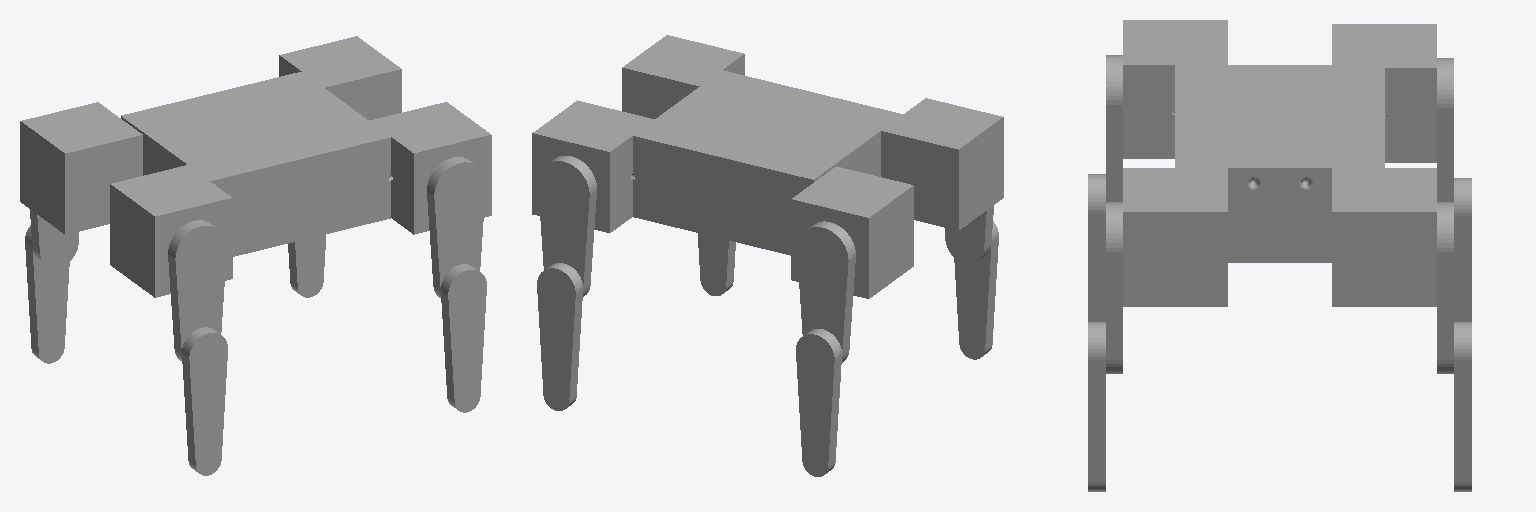
robot.urdf — q_dot_02:
<?xml version="1.0" encoding="utf-8"?>
<!-- =================================================================================== -->
<!-- |    This document was autogenerated by xacro from q_dot_02.xacro                 | -->
<!-- |    EDITING THIS FILE BY HAND IS NOT RECOMMENDED                                 | -->
<!-- =================================================================================== -->
<robot name="q_dot_02">
  <material name="silver">
    <color rgba="0.700 0.700 0.700 1.000"/>
  </material>
  <transmission name="rf_hip_joint_tran">
    <type>transmission_interface/SimpleTransmission</type>
    <joint name="rf_hip_joint">
      <hardwareInterface>hardware_interface/EffortJointInterface</hardwareInterface>
    </joint>
    <actuator name="rf_hip_joint_actr">
      <hardwareInterface>hardware_interface/EffortJointInterface</hardwareInterface>
      <mechanicalReduction>1</mechanicalReduction>
    </actuator>
  </transmission>
  <transmission name="lf_hip_joint_tran">
    <type>transmission_interface/SimpleTransmission</type>
    <joint name="lf_hip_joint">
      <hardwareInterface>hardware_interface/EffortJointInterface</hardwareInterface>
    </joint>
    <actuator name="lf_hip_joint_actr">
      <hardwareInterface>hardware_interface/EffortJointInterface</hardwareInterface>
      <mechanicalReduction>1</mechanicalReduction>
    </actuator>
  </transmission>
  <transmission name="lh_hip_joint_tran">
    <type>transmission_interface/SimpleTransmission</type>
    <joint name="lh_hip_joint">
      <hardwareInterface>hardware_interface/EffortJointInterface</hardwareInterface>
    </joint>
    <actuator name="lh_hip_joint_actr">
      <hardwareInterface>hardware_interface/EffortJointInterface</hardwareInterface>
      <mechanicalReduction>1</mechanicalReduction>
    </actuator>
  </transmission>
  <transmission name="rh_hip_joint_tran">
    <type>transmission_interface/SimpleTransmission</type>
    <joint name="rh_hip_joint">
      <hardwareInterface>hardware_interface/EffortJointInterface</hardwareInterface>
    </joint>
    <actuator name="rh_hip_joint_actr">
      <hardwareInterface>hardware_interface/EffortJointInterface</hardwareInterface>
      <mechanicalReduction>1</mechanicalReduction>
    </actuator>
  </transmission>
  <transmission name="rf_upper_joint_tran">
    <type>transmission_interface/SimpleTransmission</type>
    <joint name="rf_upper_joint">
      <hardwareInterface>hardware_interface/EffortJointInterface</hardwareInterface>
    </joint>
    <actuator name="rf_upper_joint_actr">
      <hardwareInterface>hardware_interface/EffortJointInterface</hardwareInterface>
      <mechanicalReduction>1</mechanicalReduction>
    </actuator>
  </transmission>
  <transmission name="rf_lower_joint_tran">
    <type>transmission_interface/SimpleTransmission</type>
    <joint name="rf_lower_joint">
      <hardwareInterface>hardware_interface/EffortJointInterface</hardwareInterface>
    </joint>
    <actuator name="rf_lower_joint_actr">
      <hardwareInterface>hardware_interface/EffortJointInterface</hardwareInterface>
      <mechanicalReduction>1</mechanicalReduction>
    </actuator>
  </transmission>
  <transmission name="lf_upper_joint_tran">
    <type>transmission_interface/SimpleTransmission</type>
    <joint name="lf_upper_joint">
      <hardwareInterface>hardware_interface/EffortJointInterface</hardwareInterface>
    </joint>
    <actuator name="lf_upper_joint_actr">
      <hardwareInterface>hardware_interface/EffortJointInterface</hardwareInterface>
      <mechanicalReduction>1</mechanicalReduction>
    </actuator>
  </transmission>
  <transmission name="lf_lower_joint_tran">
    <type>transmission_interface/SimpleTransmission</type>
    <joint name="lf_lower_joint">
      <hardwareInterface>hardware_interface/EffortJointInterface</hardwareInterface>
    </joint>
    <actuator name="lf_lower_joint_actr">
      <hardwareInterface>hardware_interface/EffortJointInterface</hardwareInterface>
      <mechanicalReduction>1</mechanicalReduction>
    </actuator>
  </transmission>
  <transmission name="lh_upper_joint_tran">
    <type>transmission_interface/SimpleTransmission</type>
    <joint name="lh_upper_joint">
      <hardwareInterface>hardware_interface/EffortJointInterface</hardwareInterface>
    </joint>
    <actuator name="lh_upper_joint_actr">
      <hardwareInterface>hardware_interface/EffortJointInterface</hardwareInterface>
      <mechanicalReduction>1</mechanicalReduction>
    </actuator>
  </transmission>
  <transmission name="lh_lower_joint_tran">
    <type>transmission_interface/SimpleTransmission</type>
    <joint name="lh_lower_joint">
      <hardwareInterface>hardware_interface/EffortJointInterface</hardwareInterface>
    </joint>
    <actuator name="lh_lower_joint_actr">
      <hardwareInterface>hardware_interface/EffortJointInterface</hardwareInterface>
      <mechanicalReduction>1</mechanicalReduction>
    </actuator>
  </transmission>
  <transmission name="rh_upper_joint_tran">
    <type>transmission_interface/SimpleTransmission</type>
    <joint name="rh_upper_joint">
      <hardwareInterface>hardware_interface/EffortJointInterface</hardwareInterface>
    </joint>
    <actuator name="rh_upper_joint_actr">
      <hardwareInterface>hardware_interface/EffortJointInterface</hardwareInterface>
      <mechanicalReduction>1</mechanicalReduction>
    </actuator>
  </transmission>
  <transmission name="rh_lower_joint_tran">
    <type>transmission_interface/SimpleTransmission</type>
    <joint name="rh_lower_joint">
      <hardwareInterface>hardware_interface/EffortJointInterface</hardwareInterface>
    </joint>
    <actuator name="rh_lower_joint_actr">
      <hardwareInterface>hardware_interface/EffortJointInterface</hardwareInterface>
      <mechanicalReduction>1</mechanicalReduction>
    </actuator>
  </transmission>
  <gazebo>
    <plugin filename="libgazebo_ros_control.so" name="control"/>
  </gazebo>
  <gazebo reference="base_link">
    <material>Gazebo/Silver</material>
    <mu1>0.2</mu1>
    <mu2>0.2</mu2>
    <selfCollide>true</selfCollide>
    <gravity>true</gravity>
  </gazebo>
  <gazebo reference="rf_hip_link_1">
    <material>Gazebo/Silver</material>
    <mu1>0.2</mu1>
    <mu2>0.2</mu2>
    <selfCollide>true</selfCollide>
  </gazebo>
  <gazebo reference="lf_hip_link_1">
    <material>Gazebo/Silver</material>
    <mu1>0.2</mu1>
    <mu2>0.2</mu2>
    <selfCollide>true</selfCollide>
  </gazebo>
  <gazebo reference="lh_hip_link_1">
    <material>Gazebo/Silver</material>
    <mu1>0.2</mu1>
    <mu2>0.2</mu2>
    <selfCollide>true</selfCollide>
  </gazebo>
  <gazebo reference="rh_hip_link_1">
    <material>Gazebo/Silver</material>
    <mu1>0.2</mu1>
    <mu2>0.2</mu2>
    <selfCollide>true</selfCollide>
  </gazebo>
  <gazebo reference="rf_upper_leg_link_1">
    <material>Gazebo/Silver</material>
    <mu1>0.2</mu1>
    <mu2>0.2</mu2>
    <selfCollide>true</selfCollide>
  </gazebo>
  <gazebo reference="rf_lower_leg_link_1">
    <material>Gazebo/Silver</material>
    <mu1>0.2</mu1>
    <mu2>0.2</mu2>
    <selfCollide>true</selfCollide>
  </gazebo>
  <gazebo reference="lf_upper_leg_link_1">
    <material>Gazebo/Silver</material>
    <mu1>0.2</mu1>
    <mu2>0.2</mu2>
    <selfCollide>true</selfCollide>
  </gazebo>
  <gazebo reference="lf_lower_leg_link_1">
    <material>Gazebo/Silver</material>
    <mu1>0.2</mu1>
    <mu2>0.2</mu2>
    <selfCollide>true</selfCollide>
  </gazebo>
  <gazebo reference="lh_upper_leg_link_1">
    <material>Gazebo/Silver</material>
    <mu1>0.2</mu1>
    <mu2>0.2</mu2>
    <selfCollide>true</selfCollide>
  </gazebo>
  <gazebo reference="lh_lower_leg_link_1">
    <material>Gazebo/Silver</material>
    <mu1>0.2</mu1>
    <mu2>0.2</mu2>
    <selfCollide>true</selfCollide>
  </gazebo>
  <gazebo reference="rh_upper_leg_link_1">
    <material>Gazebo/Silver</material>
    <mu1>0.2</mu1>
    <mu2>0.2</mu2>
    <selfCollide>true</selfCollide>
  </gazebo>
  <gazebo reference="rh_lower_leg_link_1">
    <material>Gazebo/Silver</material>
    <mu1>0.2</mu1>
    <mu2>0.2</mu2>
    <selfCollide>true</selfCollide>
  </gazebo>
  <link name="base_link">
    <inertial>
      <origin rpy="0 0 0" xyz="-3.749856284860472e-06 -9.02420120018054e-18 -1.093119461551725e-06"/>
      <mass value="0.9889425737724369"/>
      <inertia ixx="0.000371" ixy="-0.0" ixz="0.0" iyy="0.000478" iyz="-0.0" izz="0.0007"/>
    </inertial>
    <visual>
      <origin rpy="0 0 0" xyz="0 0 0"/>
      <geometry>
        <mesh filename="package://q_dot_02_description/meshes/base_link.stl" scale="0.001 0.001 0.001"/>
      </geometry>
      <material name="silver"/>
    </visual>
    <collision>
      <origin rpy="0 0 0" xyz="0 0 0"/>
      <geometry>
        <mesh filename="package://q_dot_02_description/meshes/base_link.stl" scale="0.001 0.001 0.001"/>
      </geometry>
    </collision>
  </link>
  <link name="rf_hip_link_1">
    <inertial>
      <origin rpy="0 0 0" xyz="0.015001687347942105 1.734723475976807e-17 0.0"/>
      <mass value="0.21192533849766937"/>
      <inertia ixx="3.2e-05" ixy="0.0" ixz="0.0" iyy="3.2e-05" iyz="0.0" izz="3.2e-05"/>
    </inertial>
    <visual>
      <origin rpy="0 0 0" xyz="-0.035 0.03 -0.0"/>
      <geometry>
        <mesh filename="package://q_dot_02_description/meshes/rf_hip_link_1.stl" scale="0.001 0.001 0.001"/>
      </geometry>
      <material name="silver"/>
    </visual>
    <collision>
      <origin rpy="0 0 0" xyz="-0.035 0.03 -0.0"/>
      <geometry>
        <mesh filename="package://q_dot_02_description/meshes/rf_hip_link_1.stl" scale="0.001 0.001 0.001"/>
      </geometry>
    </collision>
  </link>
  <link name="lf_hip_link_1">
    <inertial>
      <origin rpy="0 0 0" xyz="0.015001687347942098 1.734723475976807e-17 -2.6319460028976815e-18"/>
      <mass value="0.2119253384976692"/>
      <inertia ixx="3.2e-05" ixy="0.0" ixz="-0.0" iyy="3.2e-05" iyz="-0.0" izz="3.2e-05"/>
    </inertial>
    <visual>
      <origin rpy="0 0 0" xyz="-0.035 -0.03 -0.0"/>
      <geometry>
        <mesh filename="package://q_dot_02_description/meshes/lf_hip_link_1.stl" scale="0.001 0.001 0.001"/>
      </geometry>
      <material name="silver"/>
    </visual>
    <collision>
      <origin rpy="0 0 0" xyz="-0.035 -0.03 -0.0"/>
      <geometry>
        <mesh filename="package://q_dot_02_description/meshes/lf_hip_link_1.stl" scale="0.001 0.001 0.001"/>
      </geometry>
    </collision>
  </link>
  <link name="lh_hip_link_1">
    <inertial>
      <origin rpy="0 0 0" xyz="-0.015001687347942105 -2.42861286636753e-17 3.469446951953614e-18"/>
      <mass value="0.2119253384976694"/>
      <inertia ixx="3.2e-05" ixy="0.0" ixz="0.0" iyy="3.2e-05" iyz="0.0" izz="3.2e-05"/>
    </inertial>
    <visual>
      <origin rpy="0 0 0" xyz="0.035 -0.03 0.001"/>
      <geometry>
        <mesh filename="package://q_dot_02_description/meshes/lh_hip_link_1.stl" scale="0.001 0.001 0.001"/>
      </geometry>
      <material name="silver"/>
    </visual>
    <collision>
      <origin rpy="0 0 0" xyz="0.035 -0.03 0.001"/>
      <geometry>
        <mesh filename="package://q_dot_02_description/meshes/lh_hip_link_1.stl" scale="0.001 0.001 0.001"/>
      </geometry>
    </collision>
  </link>
  <link name="rh_hip_link_1">
    <inertial>
      <origin rpy="0 0 0" xyz="-0.015001687347942105 -1.734723475976807e-17 0.0"/>
      <mass value="0.21192533849766917"/>
      <inertia ixx="3.2e-05" ixy="0.0" ixz="-0.0" iyy="3.2e-05" iyz="-0.0" izz="3.2e-05"/>
    </inertial>
    <visual>
      <origin rpy="0 0 0" xyz="0.035 0.03 -0.0"/>
      <geometry>
        <mesh filename="package://q_dot_02_description/meshes/rh_hip_link_1.stl" scale="0.001 0.001 0.001"/>
      </geometry>
      <material name="silver"/>
    </visual>
    <collision>
      <origin rpy="0 0 0" xyz="0.035 0.03 -0.0"/>
      <geometry>
        <mesh filename="package://q_dot_02_description/meshes/rh_hip_link_1.stl" scale="0.001 0.001 0.001"/>
      </geometry>
    </collision>
  </link>
  <link name="rf_upper_leg_link_1">
    <inertial>
      <origin rpy="0 0 0" xyz="0.0 -0.0025000000000000022 -0.015060554087736015"/>
      <mass value="0.03370014250693511"/>
      <inertia ixx="7e-06" ixy="-0.0" ixz="-0.0" iyy="8e-06" iyz="-0.0" izz="1e-06"/>
    </inertial>
    <visual>
      <origin rpy="0 0 0" xyz="-0.05 0.045 -0.0"/>
      <geometry>
        <mesh filename="package://q_dot_02_description/meshes/rf_upper_leg_link_1.stl" scale="0.001 0.001 0.001"/>
      </geometry>
      <material name="silver"/>
    </visual>
    <collision>
      <origin rpy="0 0 0" xyz="-0.05 0.045 -0.0"/>
      <geometry>
        <mesh filename="package://q_dot_02_description/meshes/rf_upper_leg_link_1.stl" scale="0.001 0.001 0.001"/>
      </geometry>
    </collision>
  </link>
  <link name="rf_lower_leg_link_1">
    <inertial>
      <origin rpy="0 0 0" xyz="0.0 -0.0024999999999999953 -0.01706099375174222"/>
      <mass value="0.02467231228210367"/>
      <inertia ixx="5e-06" ixy="0.0" ixz="0.0" iyy="5e-06" iyz="0.0" izz="0.0"/>
    </inertial>
    <visual>
      <origin rpy="0 0 0" xyz="-0.05 0.05 0.035"/>
      <geometry>
        <mesh filename="package://q_dot_02_description/meshes/rf_lower_leg_link_1.stl" scale="0.001 0.001 0.001"/>
      </geometry>
      <material name="silver"/>
    </visual>
    <collision>
      <origin rpy="0 0 0" xyz="-0.05 0.05 0.035"/>
      <geometry>
        <mesh filename="package://q_dot_02_description/meshes/rf_lower_leg_link_1.stl" scale="0.001 0.001 0.001"/>
      </geometry>
    </collision>
  </link>
  <!-- RF FOOT -->
  <link name="rf_foot_link"/>
  <!-- RF FOOT -->
  <link name="lf_upper_leg_link_1">
    <inertial>
      <origin rpy="0 0 0" xyz="0.0 0.002500000000000009 -0.015060554087736"/>
      <mass value="0.033700142506935094"/>
      <inertia ixx="7e-06" ixy="0.0" ixz="-0.0" iyy="8e-06" iyz="0.0" izz="1e-06"/>
    </inertial>
    <visual>
      <origin rpy="0 0 0" xyz="-0.05 -0.045 -0.0"/>
      <geometry>
        <mesh filename="package://q_dot_02_description/meshes/lf_upper_leg_link_1.stl" scale="0.001 0.001 0.001"/>
      </geometry>
      <material name="silver"/>
    </visual>
    <collision>
      <origin rpy="0 0 0" xyz="-0.05 -0.045 -0.0"/>
      <geometry>
        <mesh filename="package://q_dot_02_description/meshes/lf_upper_leg_link_1.stl" scale="0.001 0.001 0.001"/>
      </geometry>
    </collision>
  </link>
  <link name="lf_lower_leg_link_1">
    <inertial>
      <origin rpy="0 0 0" xyz="-2.0816681711721685e-17 0.002500000000000009 -0.017060993751742214"/>
      <mass value="0.024672312282103682"/>
      <inertia ixx="5e-06" ixy="0.0" ixz="0.0" iyy="5e-06" iyz="-0.0" izz="0.0"/>
    </inertial>
    <visual>
      <origin rpy="0 0 0" xyz="-0.05 -0.05 0.035"/>
      <geometry>
        <mesh filename="package://q_dot_02_description/meshes/lf_lower_leg_link_1.stl" scale="0.001 0.001 0.001"/>
      </geometry>
      <material name="silver"/>
    </visual>
    <collision>
      <origin rpy="0 0 0" xyz="-0.05 -0.05 0.035"/>
      <geometry>
        <mesh filename="package://q_dot_02_description/meshes/lf_lower_leg_link_1.stl" scale="0.001 0.001 0.001"/>
      </geometry>
    </collision>
  </link>
  <!-- LF FOOT -->
  <link name="lf_foot_link"/>
  <!-- LF FOOT -->
  <link name="lh_upper_leg_link_1">
    <inertial>
      <origin rpy="0 0 0" xyz="-3.469446951953614e-17 0.0024999999999999953 -0.015060554087736003"/>
      <mass value="0.0337001425069351"/>
      <inertia ixx="7e-06" ixy="-0.0" ixz="0.0" iyy="8e-06" iyz="0.0" izz="1e-06"/>
    </inertial>
    <visual>
      <origin rpy="0 0 0" xyz="0.05 -0.045 0.001"/>
      <geometry>
        <mesh filename="package://q_dot_02_description/meshes/lh_upper_leg_link_1.stl" scale="0.001 0.001 0.001"/>
      </geometry>
      <material name="silver"/>
    </visual>
    <collision>
      <origin rpy="0 0 0" xyz="0.05 -0.045 0.001"/>
      <geometry>
        <mesh filename="package://q_dot_02_description/meshes/lh_upper_leg_link_1.stl" scale="0.001 0.001 0.001"/>
      </geometry>
    </collision>
  </link>
  <link name="lh_lower_leg_link_1">
    <inertial>
      <origin rpy="0 0 0" xyz="-2.0816681711721685e-17 0.0024999999999999883 -0.0170609937517422"/>
      <mass value="0.02467231228210367"/>
      <inertia ixx="5e-06" ixy="0.0" ixz="-0.0" iyy="5e-06" iyz="0.0" izz="0.0"/>
    </inertial>
    <visual>
      <origin rpy="0 0 0" xyz="0.05 -0.05 0.036"/>
      <geometry>
        <mesh filename="package://q_dot_02_description/meshes/lh_lower_leg_link_1.stl" scale="0.001 0.001 0.001"/>
      </geometry>
      <material name="silver"/>
    </visual>
    <collision>
      <origin rpy="0 0 0" xyz="0.05 -0.05 0.036"/>
      <geometry>
        <mesh filename="package://q_dot_02_description/meshes/lh_lower_leg_link_1.stl" scale="0.001 0.001 0.001"/>
      </geometry>
    </collision>
  </link>
  <!-- LH FOOT -->
  <link name="lh_foot_link"/>
  <!-- LH FOOT -->
  <link name="rh_upper_leg_link_1">
    <inertial>
      <origin rpy="0 0 0" xyz="1.3877787807814457e-17 -0.002500000000000009 -0.015060554087736015"/>
      <mass value="0.03370014250693509"/>
      <inertia ixx="7e-06" ixy="-0.0" ixz="0.0" iyy="8e-06" iyz="0.0" izz="1e-06"/>
    </inertial>
    <visual>
      <origin rpy="0 0 0" xyz="0.05 0.045 -0.0"/>
      <geometry>
        <mesh filename="package://q_dot_02_description/meshes/rh_upper_leg_link_1.stl" scale="0.001 0.001 0.001"/>
      </geometry>
      <material name="silver"/>
    </visual>
    <collision>
      <origin rpy="0 0 0" xyz="0.05 0.045 -0.0"/>
      <geometry>
        <mesh filename="package://q_dot_02_description/meshes/rh_upper_leg_link_1.stl" scale="0.001 0.001 0.001"/>
      </geometry>
    </collision>
  </link>
  <link name="rh_lower_leg_link_1">
    <inertial>
      <origin rpy="0 0 0" xyz="2.7755575615628914e-17 -0.002500000000000009 -0.01706099375174224"/>
      <mass value="0.024672312282103703"/>
      <inertia ixx="5e-06" ixy="-0.0" ixz="0.0" iyy="5e-06" iyz="0.0" izz="0.0"/>
    </inertial>
    <visual>
      <origin rpy="0 0 0" xyz="0.05 0.05 0.035"/>
      <geometry>
        <mesh filename="package://q_dot_02_description/meshes/rh_lower_leg_link_1.stl" scale="0.001 0.001 0.001"/>
      </geometry>
      <material name="silver"/>
    </visual>
    <collision>
      <origin rpy="0 0 0" xyz="0.05 0.05 0.035"/>
      <geometry>
        <mesh filename="package://q_dot_02_description/meshes/rh_lower_leg_link_1.stl" scale="0.001 0.001 0.001"/>
      </geometry>
    </collision>
  </link>
  <!-- RH FOOT -->
  <link name="rh_foot_link"/>
  <!-- RH FOOT -->
  <!-- JOINTS -->
  <joint name="rf_hip_joint" type="continuous">
    <origin rpy="0 0 0" xyz="0.035 -0.03 0.0"/>
    <parent link="base_link"/>
    <child link="rf_hip_link_1"/>
    <axis xyz="1.0 0.0 0.0"/>
  </joint>
  <joint name="lf_hip_joint" type="continuous">
    <origin rpy="0 0 0" xyz="0.035 0.03 0.0"/>
    <parent link="base_link"/>
    <child link="lf_hip_link_1"/>
    <axis xyz="1.0 0.0 0.0"/>
  </joint>
  <joint name="lh_hip_joint" type="continuous">
    <origin rpy="0 0 0" xyz="-0.035 0.03 -0.001"/>
    <parent link="base_link"/>
    <child link="lh_hip_link_1"/>
    <axis xyz="1.0 0.0 0.0"/>
  </joint>
  <joint name="rh_hip_joint" type="continuous">
    <origin rpy="0 0 0" xyz="-0.035 -0.03 0.0"/>
    <parent link="base_link"/>
    <child link="rh_hip_link_1"/>
    <axis xyz="1.0 0.0 0.0"/>
  </joint>
  <joint name="rf_upper_joint" type="continuous">
    <origin rpy="0 0 0" xyz="0.015 -0.015 0.0"/>
    <parent link="rf_hip_link_1"/>
    <child link="rf_upper_leg_link_1"/>
    <axis xyz="0.0 1.0 0.0"/>
  </joint>
  <joint name="rf_lower_joint" type="continuous">
    <origin rpy="0 0 0" xyz="0.0 -0.005 -0.035"/>
    <parent link="rf_upper_leg_link_1"/>
    <child link="rf_lower_leg_link_1"/>
    <axis xyz="0.0 1.0 0.0"/>
  </joint>
  <!-- RF JOINT -->
  <joint name="rf_foot_joint" type="fixed">
    <origin rpy="0 0 0" xyz="0.0 0.0 -0.045"/>
    <parent link="rf_lower_leg_link_1"/>
    <child link="rf_foot_link"/>
  </joint>
  <!-- RF JOINT -->
  <joint name="lf_upper_joint" type="continuous">
    <origin rpy="0 0 0" xyz="0.015 0.015 0.0"/>
    <parent link="lf_hip_link_1"/>
    <child link="lf_upper_leg_link_1"/>
    <axis xyz="-0.0 1.0 0.0"/>
  </joint>
  <joint name="lf_lower_joint" type="continuous">
    <origin rpy="0 0 0" xyz="0.0 0.005 -0.035"/>
    <parent link="lf_upper_leg_link_1"/>
    <child link="lf_lower_leg_link_1"/>
    <axis xyz="-0.0 1.0 0.0"/>
  </joint>
  <!-- LF JOINT -->
  <joint name="lf_foot_joint" type="fixed">
    <origin rpy="0 0 0" xyz="0.0 0.0 -0.045"/>
    <parent link="lf_lower_leg_link_1"/>
    <child link="lf_foot_link"/>
  </joint>
  <!-- LF JOINT -->
  <joint name="lh_upper_joint" type="continuous">
    <origin rpy="0 0 0" xyz="-0.015 0.015 0.0"/>
    <parent link="lh_hip_link_1"/>
    <child link="lh_upper_leg_link_1"/>
    <axis xyz="-0.0 1.0 0.0"/>
  </joint>
  <joint name="lh_lower_joint" type="continuous">
    <origin rpy="0 0 0" xyz="0.0 0.005 -0.035"/>
    <parent link="lh_upper_leg_link_1"/>
    <child link="lh_lower_leg_link_1"/>
    <axis xyz="-0.0 1.0 0.0"/>
  </joint>
  <!-- LH JOINT -->
  <joint name="lh_foot_joint" type="fixed">
    <origin rpy="0 0 0" xyz="0.0 0.0 -0.045"/>
    <parent link="lh_lower_leg_link_1"/>
    <child link="lh_foot_link"/>
  </joint>
  <!-- LH JOINT -->
  <joint name="rh_upper_joint" type="continuous">
    <origin rpy="0 0 0" xyz="-0.015 -0.015 0.0"/>
    <parent link="rh_hip_link_1"/>
    <child link="rh_upper_leg_link_1"/>
    <axis xyz="0.0 1.0 0.0"/>
  </joint>
  <joint name="rh_lower_joint" type="continuous">
    <origin rpy="0 0 0" xyz="0.0 -0.005 -0.035"/>
    <parent link="rh_upper_leg_link_1"/>
    <child link="rh_lower_leg_link_1"/>
    <axis xyz="0.0 1.0 0.0"/>
  </joint>
  <!-- RH JOINT -->
  <joint name="rh_foot_joint" type="fixed">
    <origin rpy="0 0 0" xyz="0.0 0.0 -0.045"/>
    <parent link="rh_lower_leg_link_1"/>
    <child link="rh_foot_link"/>
  </joint>
  <!-- RH JOINT -->
</robot>

--- Render facts (derived) ---
Views: 3 orthographic renders of the robot side by side, from view 1: azimuth 30°, elevation 25°; view 2: azimuth 150°, elevation 25°; view 3: azimuth 270°, elevation 25°.
Model q_dot_02 with 17 links and 16 joints (12 continuous, 4 fixed), rooted at base_link, posed all joints at 0.
Visible links, largest first — view 1: base_link, lh_hip_link_1, rh_hip_link_1, rf_hip_link_1, lf_hip_link_1, rf_upper_leg_link_1, rh_upper_leg_link_1, rh_lower_leg_link_1, rf_lower_leg_link_1, lh_lower_leg_link_1, lf_lower_leg_link_1, lh_upper_leg_link_1; view 2: base_link, rh_hip_link_1, lh_hip_link_1, lf_hip_link_1, rf_hip_link_1, lf_upper_leg_link_1, lh_upper_leg_link_1, lh_lower_leg_link_1, lf_lower_leg_link_1, rh_lower_leg_link_1, rf_lower_leg_link_1, rh_upper_leg_link_1; view 3: base_link, rf_hip_link_1, lf_hip_link_1, rh_hip_link_1, lh_hip_link_1, rf_lower_leg_link_1, lf_lower_leg_link_1, rf_upper_leg_link_1, lf_upper_leg_link_1, rh_lower_leg_link_1, lh_lower_leg_link_1, rh_upper_leg_link_1 (+1 smaller).
Link boxes in pixels (x1,y1,x2,y2): base_link: (121, 72, 390, 256); lh_hip_link_1: (20, 102, 142, 234); rh_hip_link_1: (110, 165, 232, 297); rf_hip_link_1: (370, 102, 491, 234); lf_hip_link_1: (279, 36, 401, 120); rf_upper_leg_link_1: (427, 157, 485, 297); rh_upper_leg_link_1: (168, 220, 226, 360); rh_lower_leg_link_1: (182, 327, 227, 475); rf_lower_leg_link_1: (441, 264, 486, 412); lh_lower_leg_link_1: (25, 225, 69, 363); lf_lower_leg_link_1: (288, 234, 325, 297); lh_upper_leg_link_1: (30, 210, 78, 267); base_link: (633, 70, 902, 255); rh_hip_link_1: (881, 98, 1003, 230); lh_hip_link_1: (791, 166, 913, 298); lf_hip_link_1: (532, 100, 654, 232); rf_hip_link_1: (622, 35, 744, 118); lf_upper_leg_link_1: (538, 156, 596, 296); lh_upper_leg_link_1: (797, 221, 855, 362); lh_lower_leg_link_1: (796, 329, 841, 476); lf_lower_leg_link_1: (537, 263, 582, 410); rh_lower_leg_link_1: (954, 221, 998, 359); rf_lower_leg_link_1: (698, 233, 735, 295); rh_upper_leg_link_1: (945, 205, 993, 263); base_link: (1175, 65, 1384, 262); rf_hip_link_1: (1123, 168, 1227, 306); lf_hip_link_1: (1332, 168, 1436, 306); rh_hip_link_1: (1123, 20, 1227, 158); lh_hip_link_1: (1332, 24, 1436, 162); rf_lower_leg_link_1: (1088, 322, 1105, 491); lf_lower_leg_link_1: (1454, 322, 1471, 491); rf_upper_leg_link_1: (1106, 202, 1122, 373); lf_upper_leg_link_1: (1437, 202, 1453, 373); rh_lower_leg_link_1: (1088, 174, 1105, 321); lh_lower_leg_link_1: (1454, 178, 1471, 321); rh_upper_leg_link_1: (1106, 55, 1122, 201).
Bounding box of the posed robot: 0.13 × 0.11 × 0.096 m (x, y, z).
13 mesh visuals loaded from 13 distinct referenced files (13 binary STL).